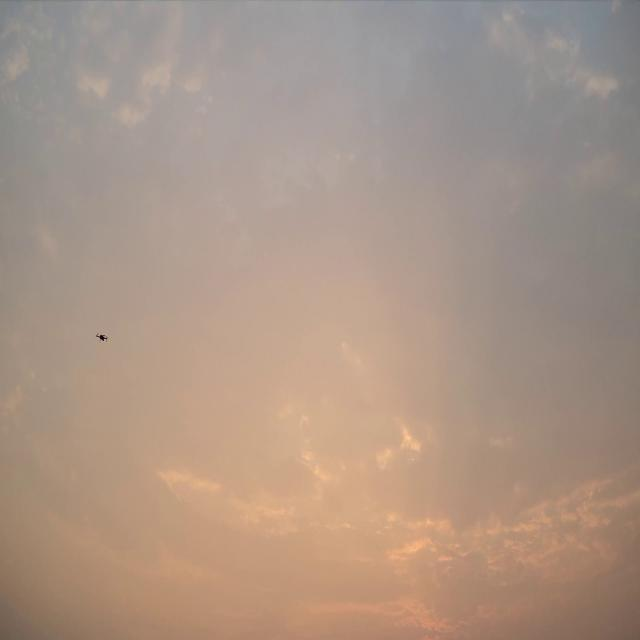drone: (96, 332, 108, 342)
